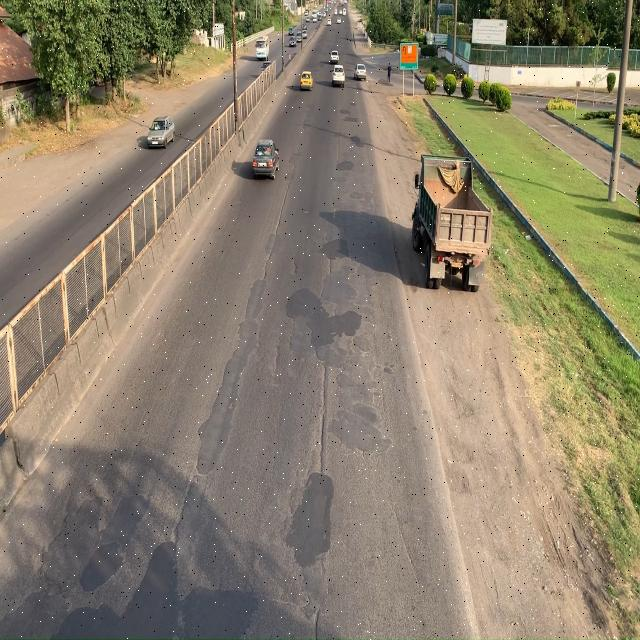Truck: (415, 148, 494, 286)
cars: (252, 138, 279, 178), (147, 115, 175, 149)
